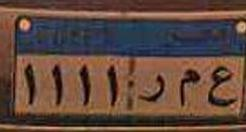1: (49, 59, 68, 107), (77, 62, 96, 109), (105, 64, 122, 108), (22, 62, 39, 106)
ain: (203, 60, 237, 112)
meem: (174, 65, 201, 109)
raa: (135, 68, 167, 109)
